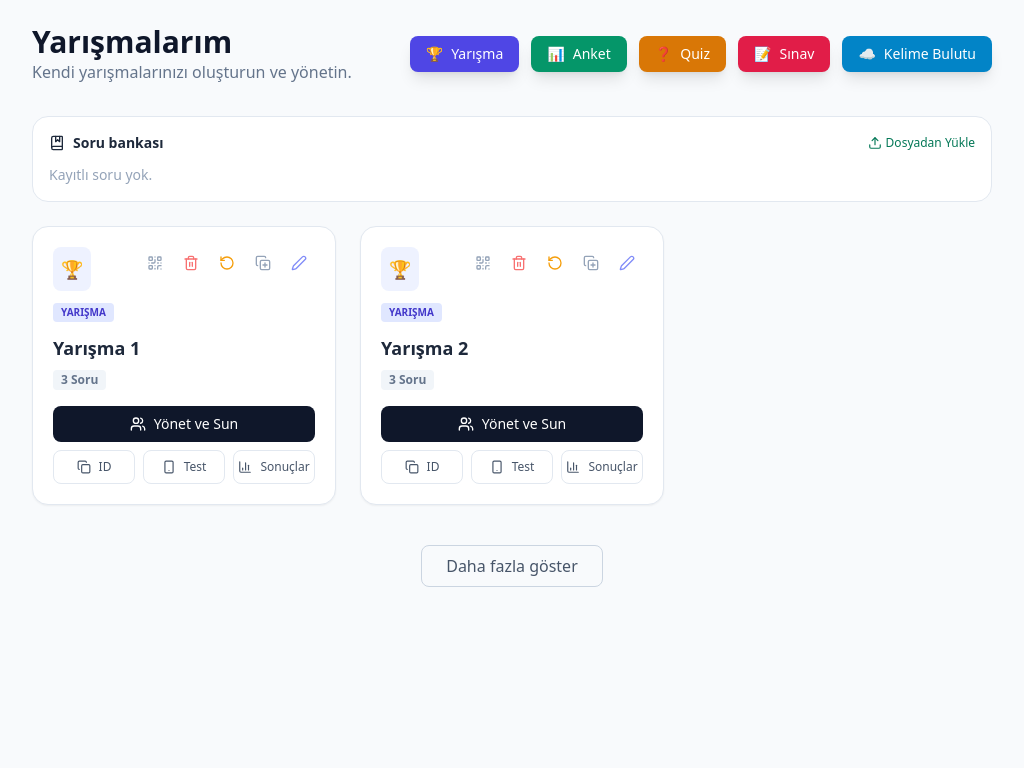
Test case: poll list paging › appends the next page instead of replacing the visible one
Check: the heading "Yarışma 1" is shown, box [53,336,140,360]
Check: the text "Yarışma 3" is not shown
Click the button "Daha fazla göster". click: (512, 566)
box: [421,545,603,587]
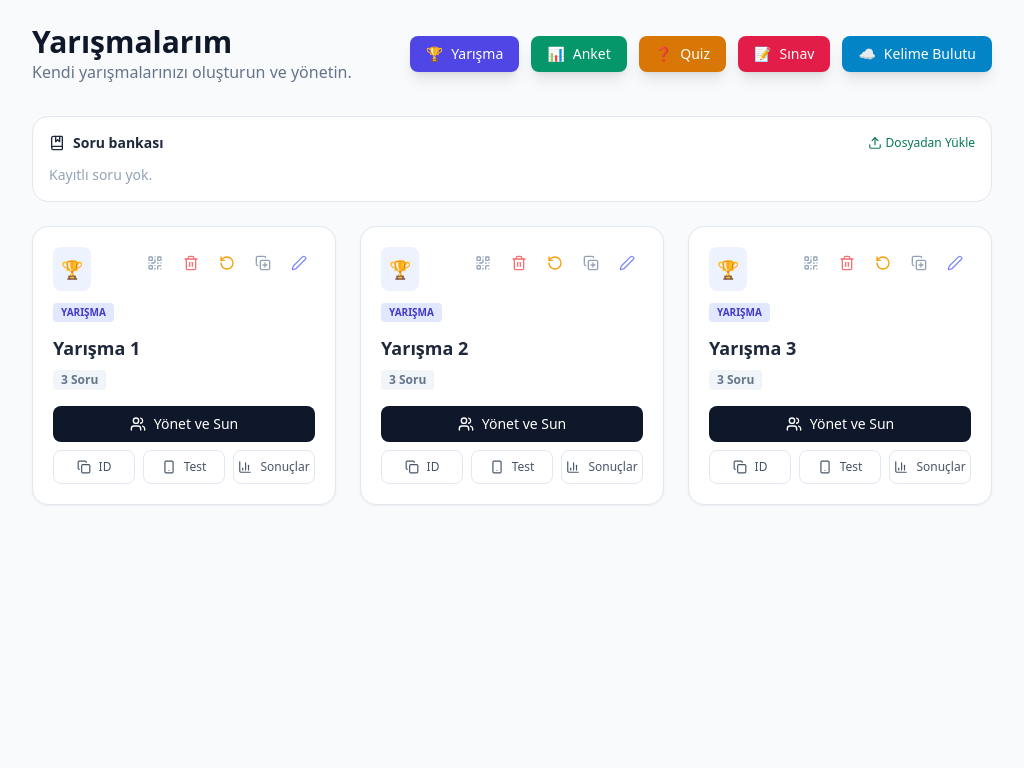
Check: the heading "Yarışma 1" is shown, box [53,336,140,360]
Check: the heading "Yarışma 3" is shown, box [709,336,796,360]
Check: the button "Daha fazla" is gone
